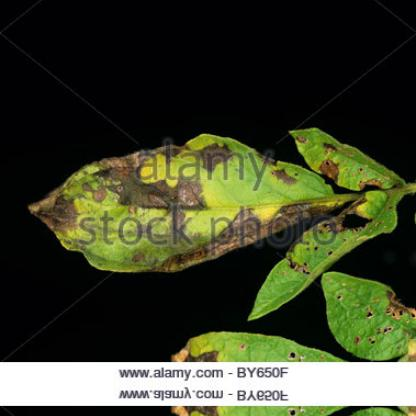Early-Blight: (26, 114, 416, 318)
